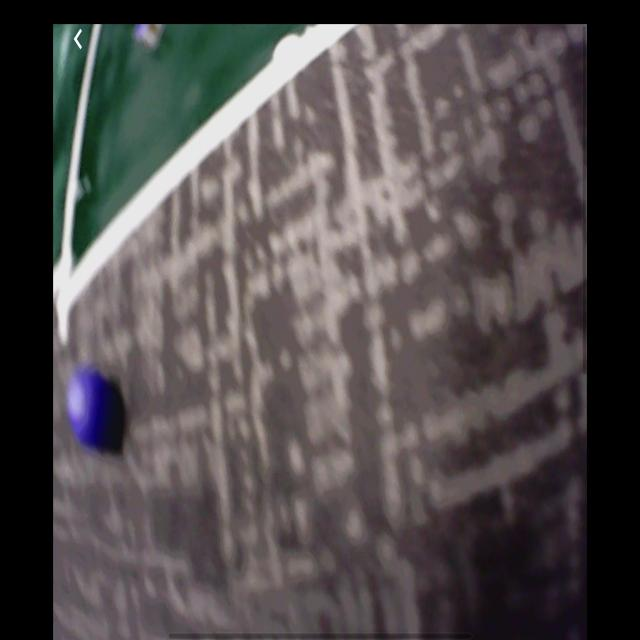ball: (67, 367, 121, 450)
